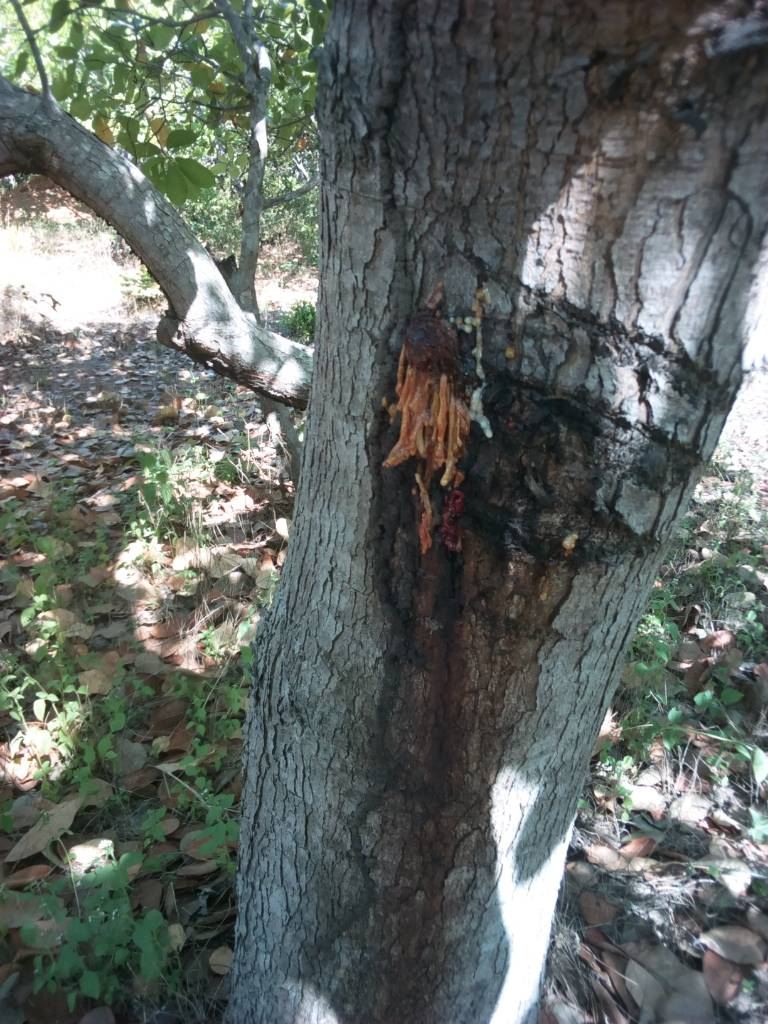Termites: (350, 528, 405, 947)
